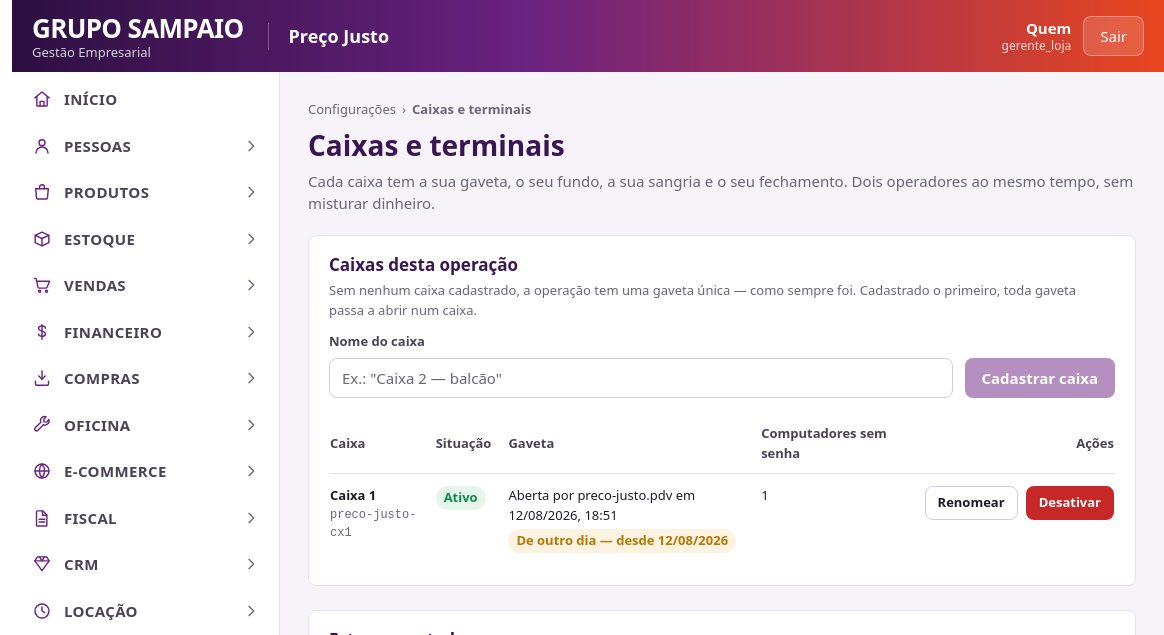
Test case: o gerente cuida dos caixas da operação › lista com a gaveta aberta de outro dia, e cadastra um caixa pelo nome
The width and height of the screenshot is (1164, 635).
Expected: the text "preco-justo-cx1" is shown, [330,506,419,542]
Expected: the text "De outro dia — desde 12/08/2026" is shown, [508,529,736,552]
Type "Caixa 2 — balcão" into the field labelled "Nome do caixa" at (641, 378), box [329,358,952,398]
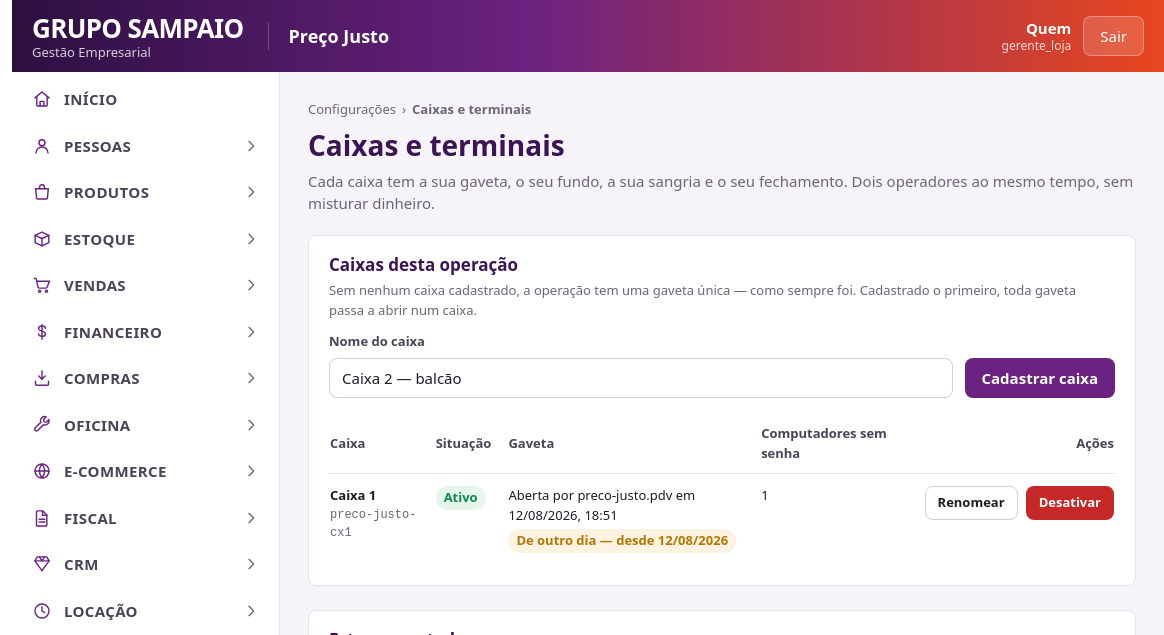
Click the button "Cadastrar caixa" at (1040, 378), box [964,358,1115,398]
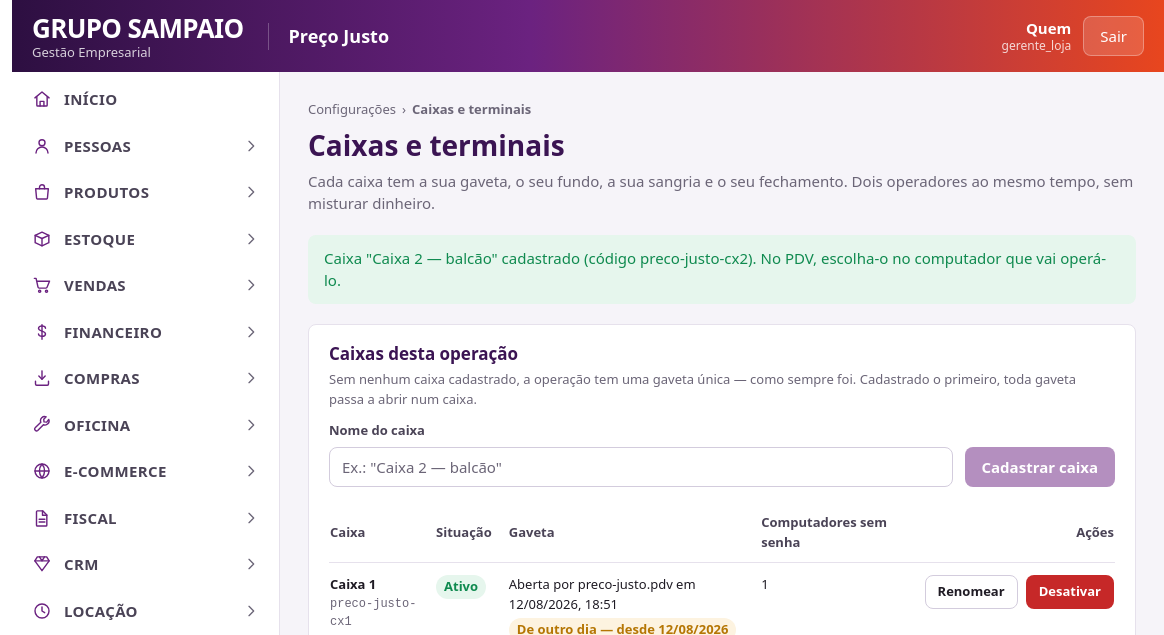
Expected: the text "Caixa \"Caixa 2 — balcão\" cadastrado" is shown, [324,248,1106,290]
